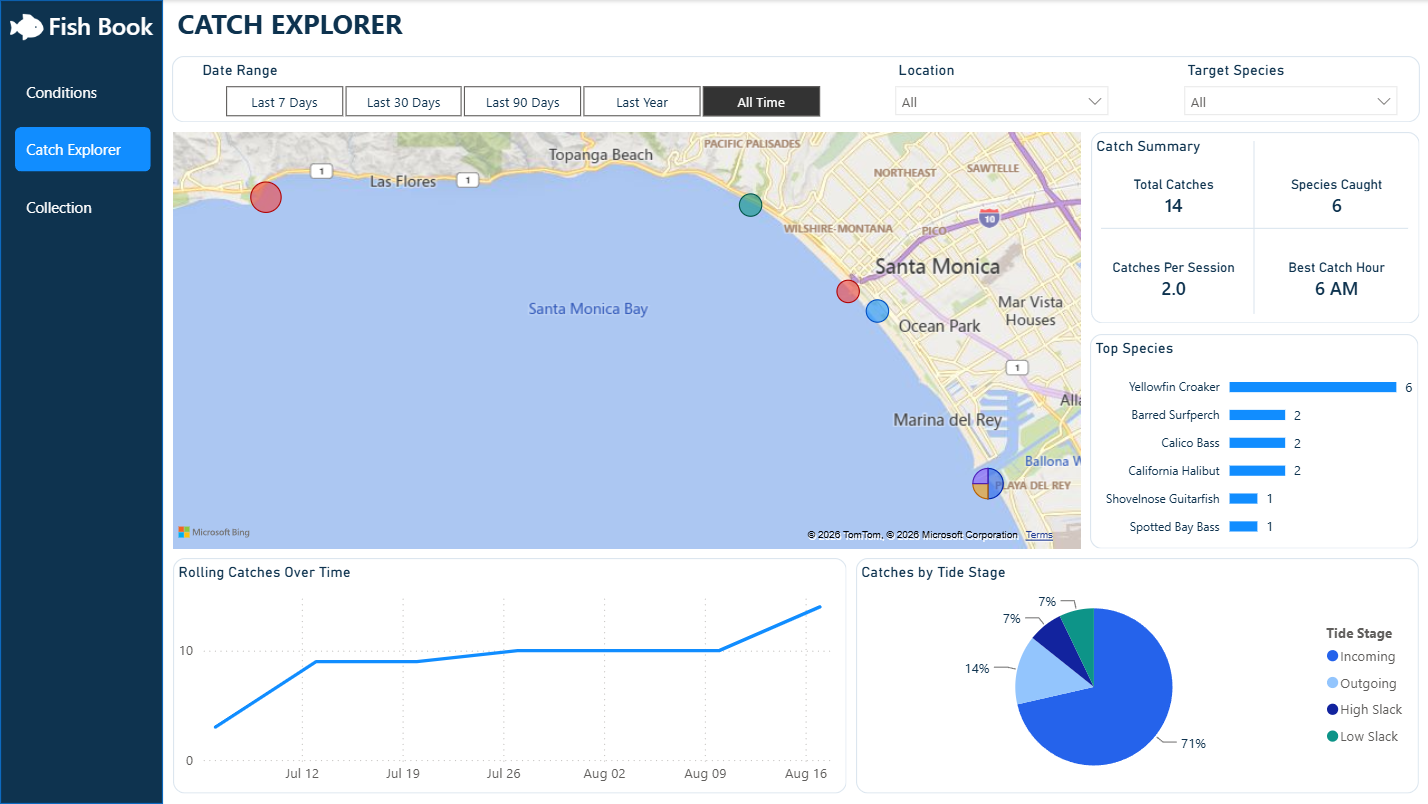

The page's visual inventory and layout, read from the dashboard file:
{"tool":"powerbi","page":{"name":"Catch Explorer","canvas":[1280,720],"ordinal":1},"visuals":[{"type":"shape","box":[153.7,50.6,1117.6,59.3],"z":0},{"type":"shape","box":[976.5,298.9,294.2,192.4],"z":0,"group":"g1"},{"type":"shape","box":[154.5,499.6,603.3,210.9],"z":0,"group":"g3"},{"type":"shape","box":[766.9,499.6,504.1,210.9],"z":0,"group":"g2"},{"type":"shape","box":[0,0,146,720],"z":1000},{"type":"lineChart","title":"Rolling Catches Over Time","fields":{"Y":["measures_.Rolling Total Catches Weekly Selected Range"],"Category":["DimDate.Week Start"]},"box":[154.5,499.6,603.3,210.9],"z":1000,"group":"g3"},{"type":"pieChart","title":"Catches by Tide Stage","fields":{"Category":["Catch.Catch TideStage"],"Y":["measures_.Total Catches Selected Range"]},"box":[766.9,499.6,504.1,210.9],"z":1000,"group":"g2"},{"type":"shape","box":[976.6,118.4,294.3,171.4],"z":2000},{"type":"textbox","box":[38.5,4,110.5,42.5],"z":3000},{"type":"textbox","box":[154.4,4.4,254.4,32.2],"z":4000},{"type":"slicer","fields":{"Values":["Location.LocationName"]},"box":[791.7,50.6,211.1,56.4],"z":5000},{"type":"slicer","title":"Date Range","fields":{"Values":["Date Range Selector.Range"]},"box":[176,50.6,581.6,56.4],"z":6000},{"type":"slicer","fields":{"Values":["Species.Common Name"]},"box":[1050.5,50.6,211.1,56.4],"z":7000},{"type":"actionButton","box":[13.2,62.5,121.6,39.9],"z":8000},{"type":"actionButton","box":[13.2,114,121.6,39.9],"z":9000},{"type":"actionButton","box":[13.2,165.6,121.6,39.9],"z":10000},{"type":"image","box":[0,10,47.5,29.5],"z":11000},{"type":"map","fields":{"Y":["Location.Latitude"],"X":["Location.Longitude"],"Series":["Species.Common Name"],"Size":["measures_.Total Catches Selected Range"]},"box":[154.5,118.4,813.1,373.3],"z":12000},{"type":"clusteredBarChart","title":"Top Species","fields":{"Category":["Species.Common Name"],"Y":["measures_.Total Catches Selected Range"]},"box":[976.5,299,294.3,192.7],"z":12000,"group":"g1"},{"type":"group","id":"g1","title":"Group 1","box":[976.5,298.9,294.3,192.8],"z":13000},{"type":"group","id":"g2","title":"Group 2","box":[766.9,499.6,504.1,210.9],"z":14000},{"type":"group","id":"g3","title":"Group 3","box":[154.5,499.6,603.3,210.9],"z":15000},{"type":"cardVisual","title":"Catch Summary","fields":{"Data":["measures_.Total Catches Selected Range","measures_.Distinct Species Caught","measures_.Catches Per Session","measures_.Best Catch Hour"]},"box":[976.6,118.4,294.3,171.4],"z":16000},{"type":"shape","box":[1107.5,126.3,30.4,154.5],"z":17000},{"type":"shape","box":[985.7,189.5,275.2,29.3],"z":18000}]}

Visuals, with their boxes on the page's 1280x720 design canvas (x1, y1, x2, y2). These are canvas units, not pixel positions in the 1428x804 screenshot, which may show the page scaled, cropped or inside an application window:
shape: BBox(154, 51, 1271, 110)
shape: BBox(976, 299, 1271, 491)
shape: BBox(154, 500, 758, 710)
shape: BBox(767, 500, 1271, 710)
shape: BBox(0, 0, 146, 720)
"Rolling Catches Over Time" lineChart: BBox(154, 500, 758, 710)
"Catches by Tide Stage" pieChart: BBox(767, 500, 1271, 710)
shape: BBox(977, 118, 1271, 290)
textbox: BBox(38, 4, 149, 46)
textbox: BBox(154, 4, 409, 37)
slicer - Location.LocationName: BBox(792, 51, 1003, 107)
"Date Range" slicer: BBox(176, 51, 758, 107)
slicer - Species.Common Name: BBox(1050, 51, 1262, 107)
actionButton: BBox(13, 62, 135, 102)
actionButton: BBox(13, 114, 135, 154)
actionButton: BBox(13, 166, 135, 206)
image: BBox(0, 10, 48, 40)
map - Location.Latitude x Location.Longitude: BBox(154, 118, 968, 492)
"Top Species" clusteredBarChart: BBox(976, 299, 1271, 492)
"Group 1" group: BBox(976, 299, 1271, 492)
"Group 2" group: BBox(767, 500, 1271, 710)
"Group 3" group: BBox(154, 500, 758, 710)
"Catch Summary" cardVisual: BBox(977, 118, 1271, 290)
shape: BBox(1108, 126, 1138, 281)
shape: BBox(986, 190, 1261, 219)
